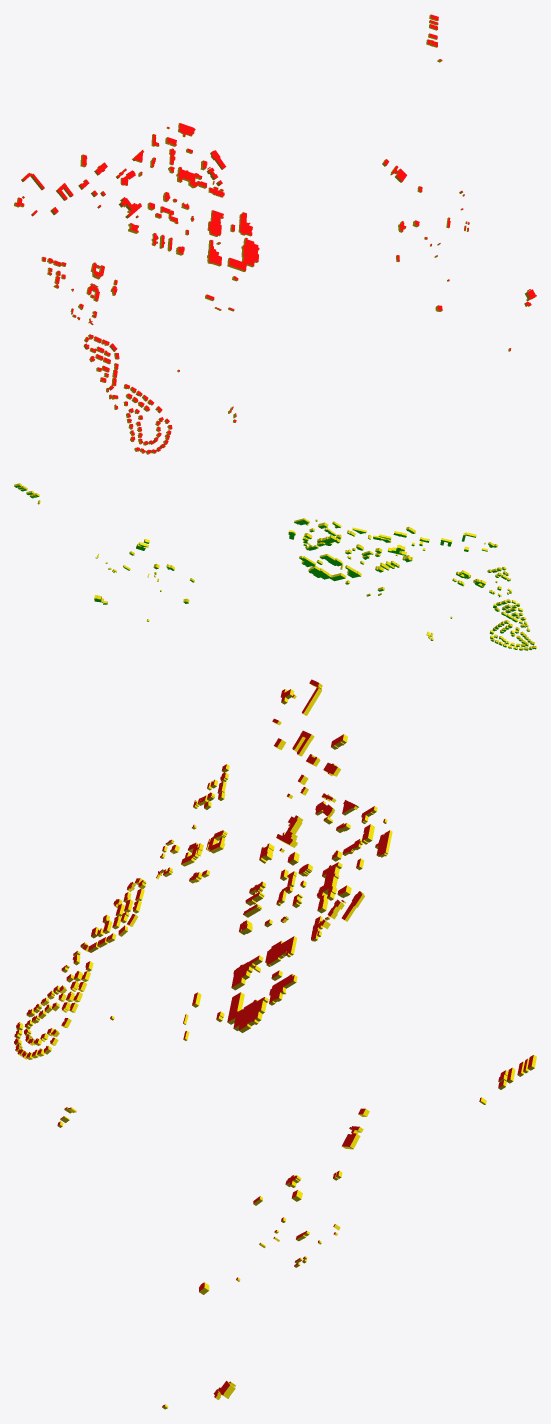
3 renders of one model, top to bottom at view 1: azimuth 30°, elevation 25°; view 2: azimuth 150°, elevation 25°; view 3: azimuth 270°, elevation 25°, orthographic. The views are drawn at different scales.
Visible parts, largest first — view 1: mesh; view 2: mesh; view 3: mesh.
Boxes of the visible parts, box(x1,y1,x2,y2) form: mesh: box(14, 14, 536, 454); mesh: box(14, 483, 536, 650); mesh: box(14, 679, 536, 1409).
Bounding box in the file's own units: 2832 × 1337 × 1611.
